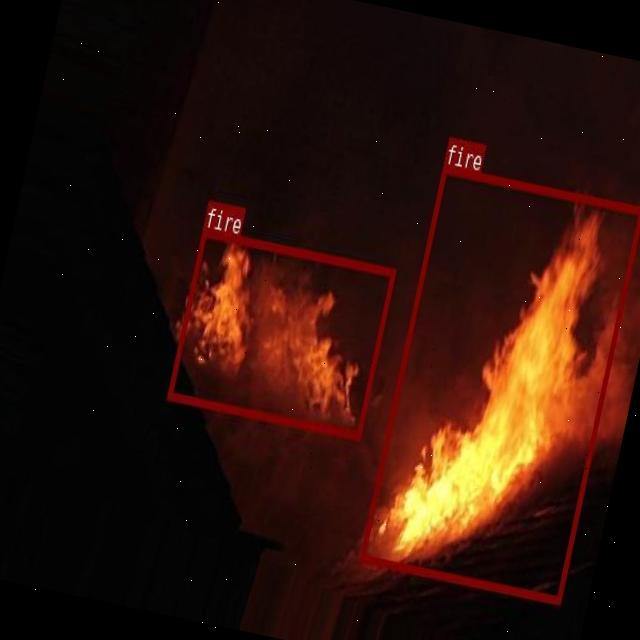fire: (358, 163, 640, 603), (166, 227, 396, 438)
